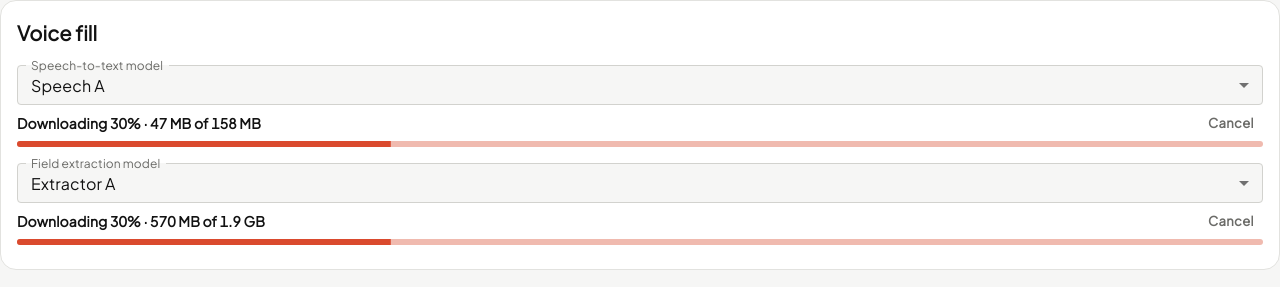
Test: the Voice Fill settings card › Cancel stops a download, and Download starts it again
What coordinates should you click on to do the following:
click the button with aria-label "Cancel Speech A"
I would click on:
 (1231, 123)
Its box is [1199,108,1263,138].
Wait 1000 ms
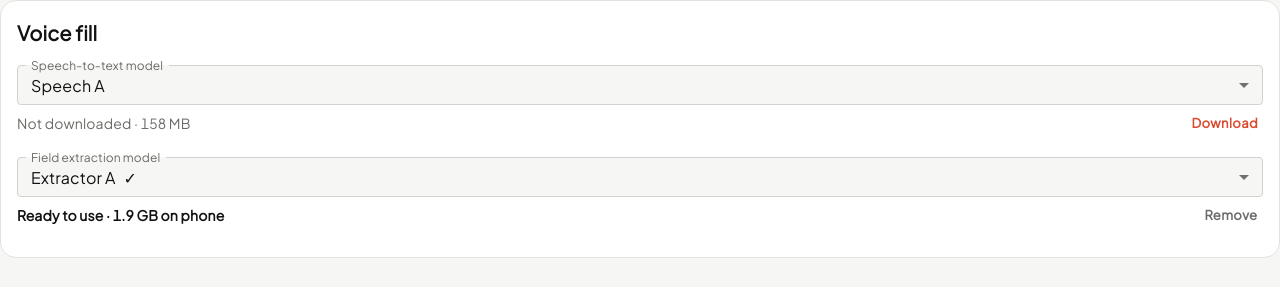
Now the text "Not downloaded · 158 MB" is shown, box [17,114,191,132]
What coordinates should you click on to do the following:
click the button with aria-label "Download Speech A"
I would click on:
 (1225, 123)
Its box is [1187,108,1263,138].
Wait 100 ms
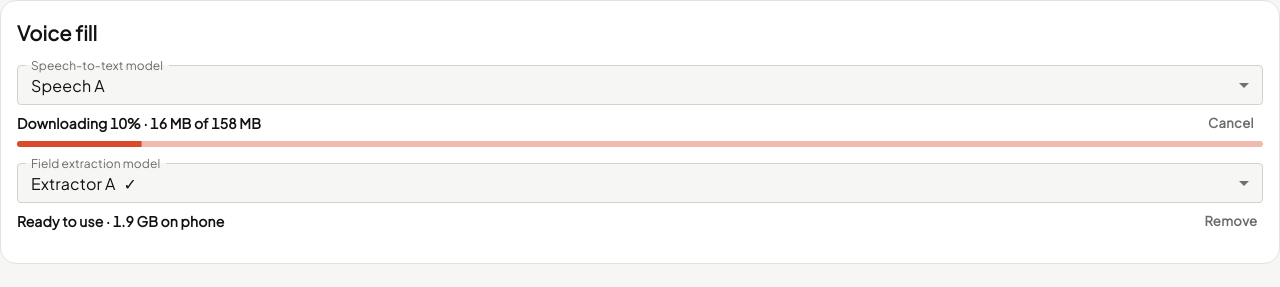
Now the text "Downloading 10% · 16 MB of 158 MB" is shown, box [17,114,261,132]
